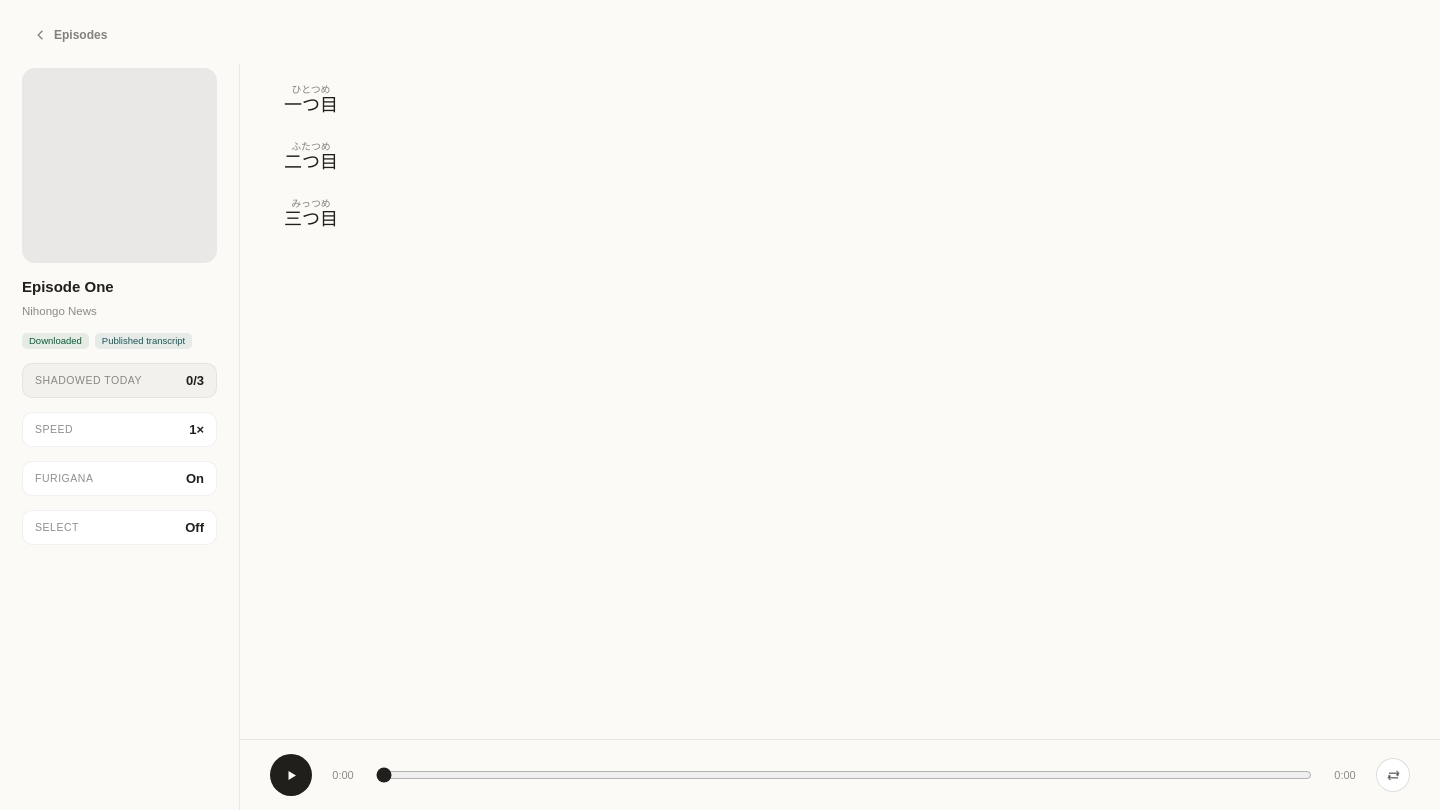
Player › clicking a word shows its definition in a popover without jumping playback
Expected: the element with test id "sentence-0" is shown, x1=284 y1=84 x2=338 y2=115
Click the text with test id "word" showing "一つ目" at (311, 105), box x1=284 y1=95 x2=338 y2=115
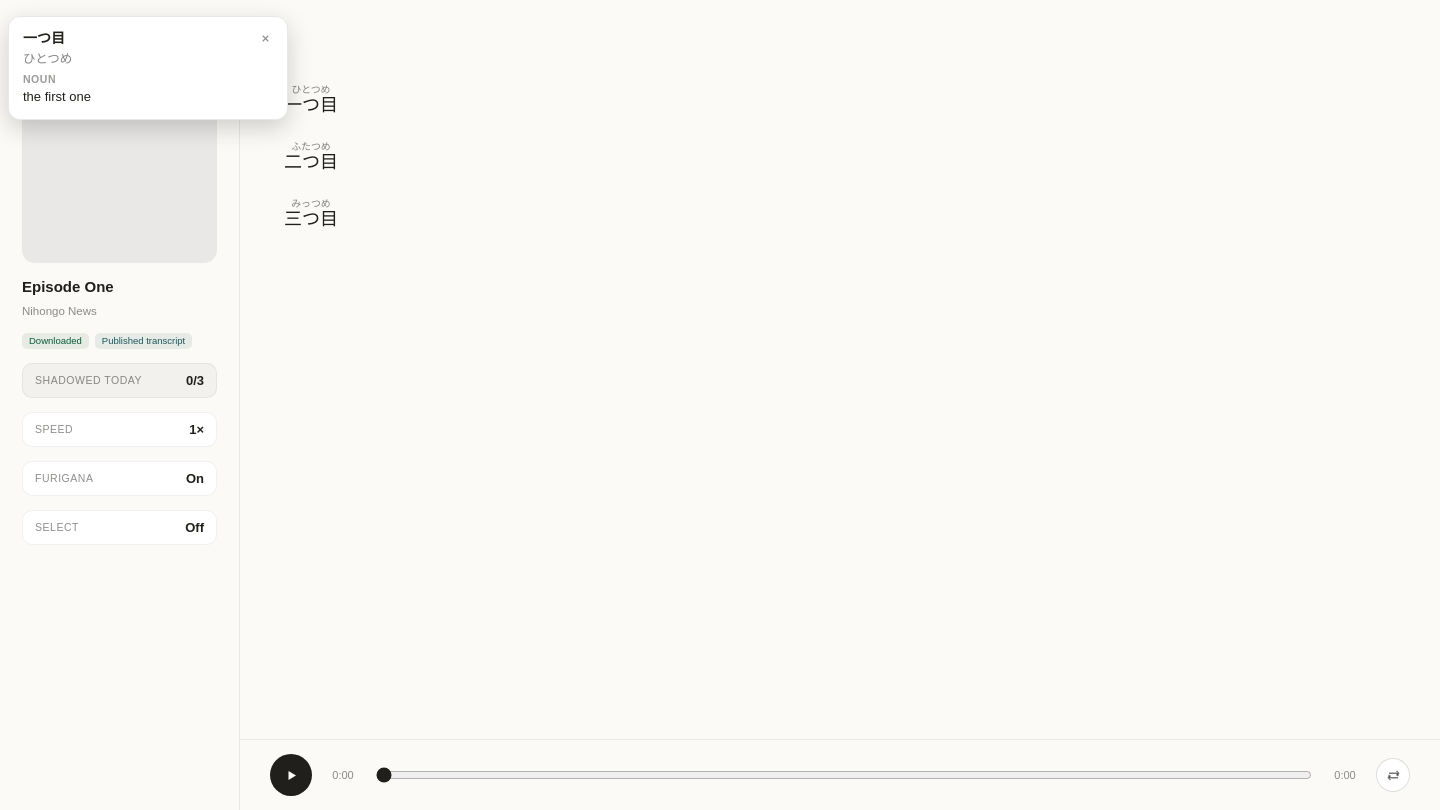
Now the element with test id "definition-popover" is shown, box x1=8 y1=16 x2=288 y2=120
Now the text "the first one" is shown, box x1=23 y1=89 x2=91 y2=104
